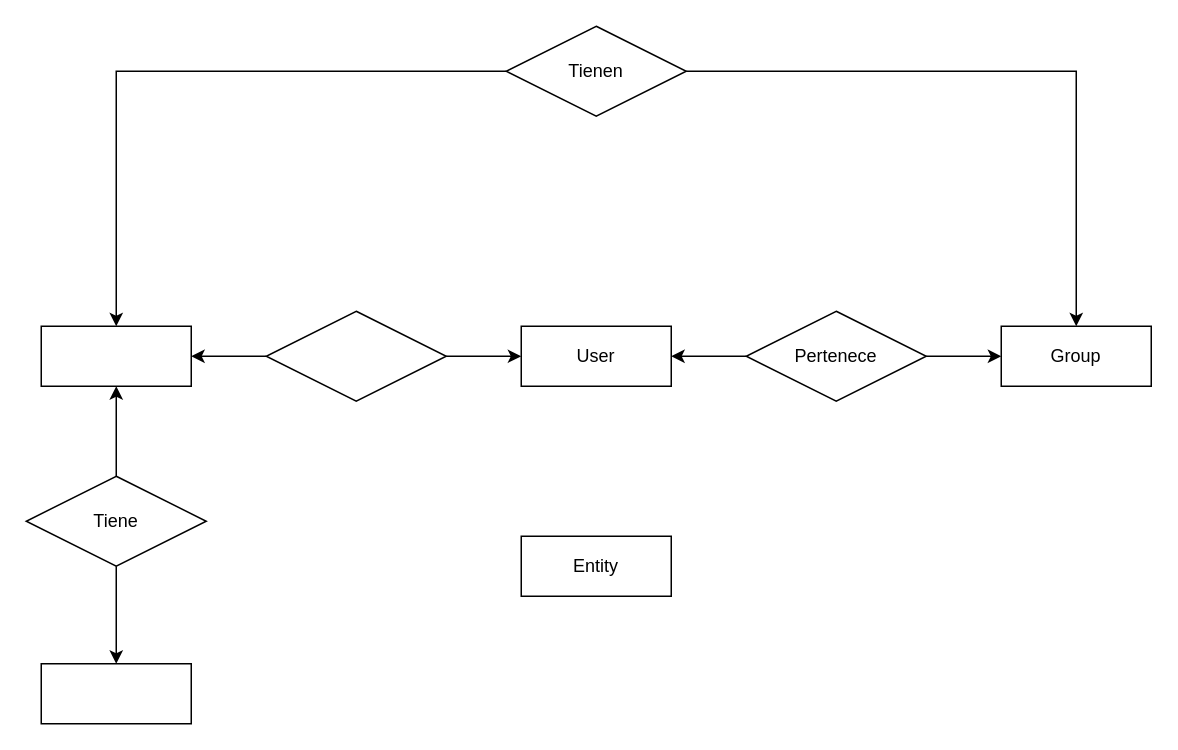
Image size: 1178x750. Some labels were removed from this diagram. Each missing label, with the box of its shape:
Bet: (40, 325, 191, 386)
Category: (40, 662, 191, 724)
Realiza: (265, 310, 446, 401)
